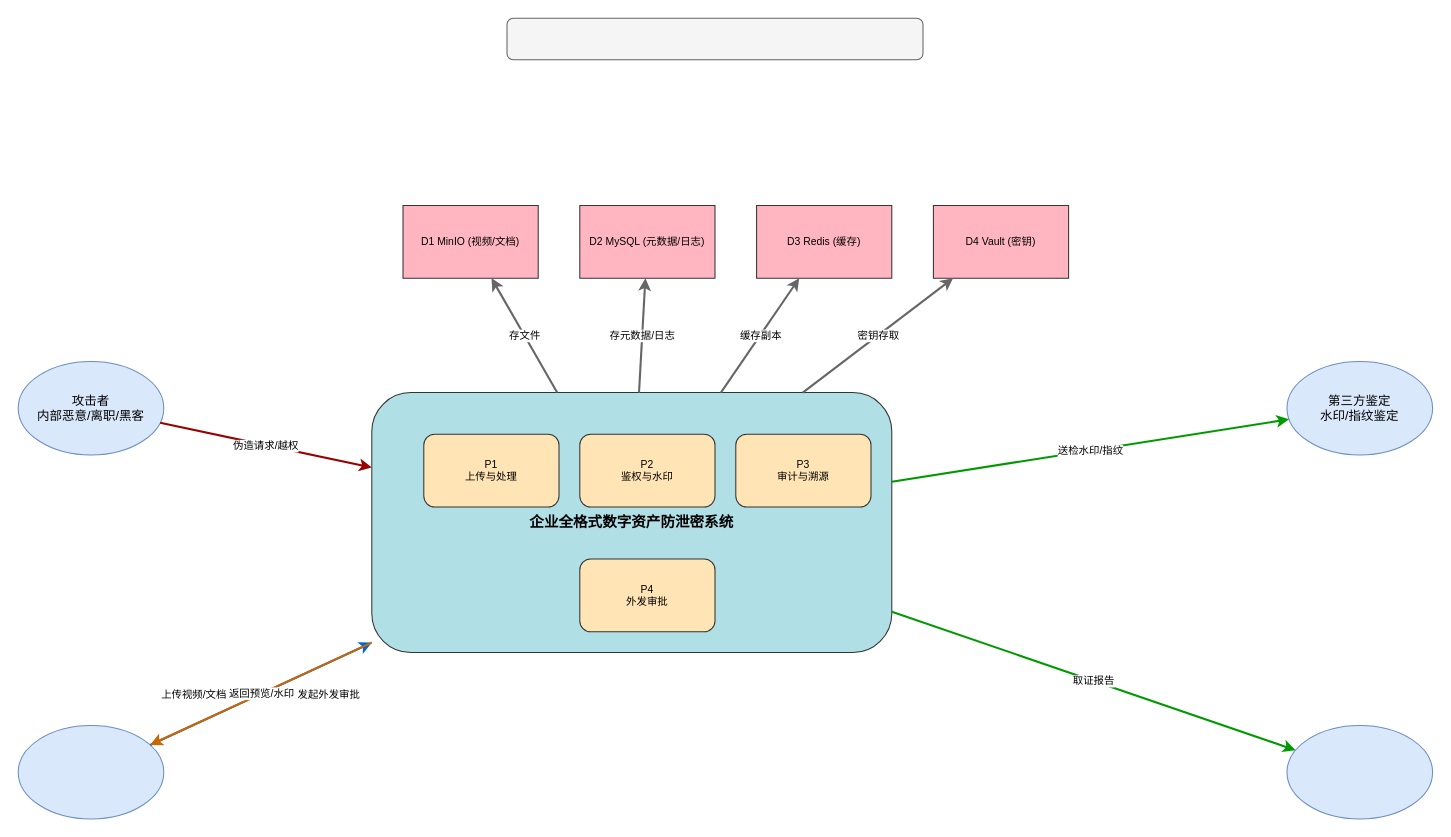
The diagram is 1451 pixels wide and 837 high, and some of its shapes have lost their labels. Here are the shapes that lost their labels. From the top down, the centre of each, then its label:
At point 714,38: "数据流图 (DFD Level 0)".
At point 90,771: "员工 员工/主管/外协".
At point 1359,771: "司法机关 取证/诉讼".
